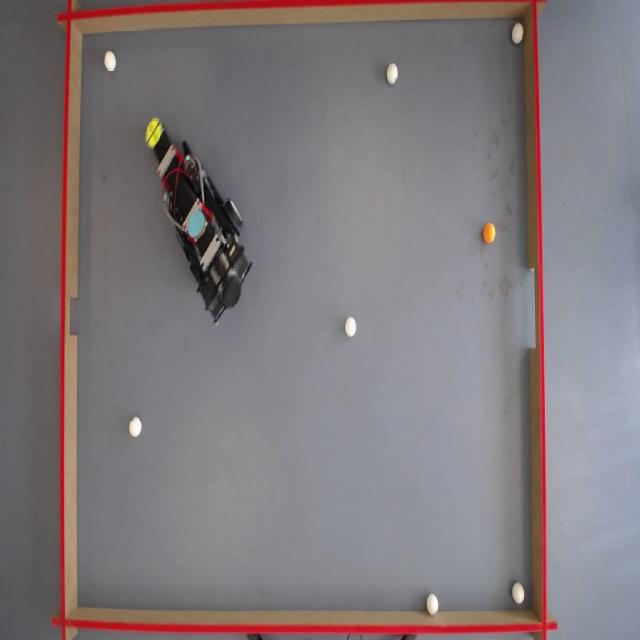orange: (484, 224, 498, 245)
robot: (144, 118, 254, 320)
robot-front: (146, 119, 162, 148)
robot-rear: (186, 206, 204, 239)
white: (513, 584, 527, 606), (512, 24, 526, 46), (426, 593, 439, 616), (130, 417, 144, 438), (386, 64, 399, 85), (104, 52, 117, 73), (346, 316, 358, 338)
